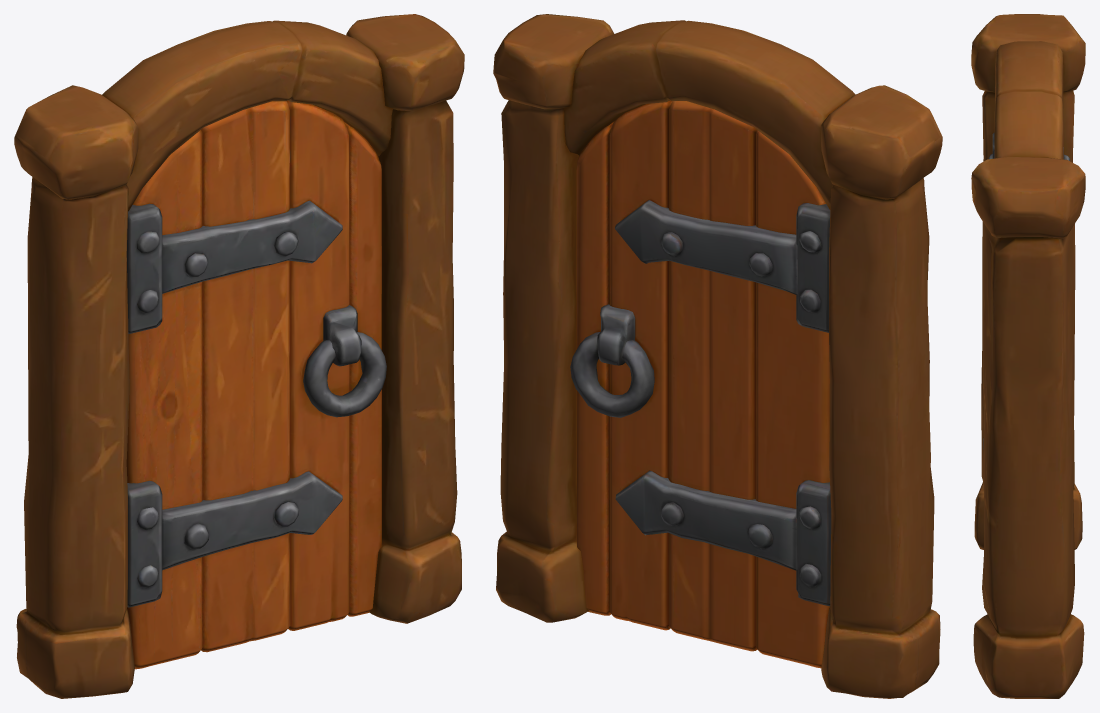
Rendered from porte_rustique.glb.
3 views of the same model, side by side, from view 1: azimuth 30°, elevation 25°; view 2: azimuth 150°, elevation 25°; view 3: azimuth 270°, elevation 25° (orthographic). The views are drawn at different scales.
Parts seen in each view (by area): view 1: geometry_0; view 2: geometry_0; view 3: geometry_0.
Part boxes in pixels (x1,y1,x2,y2): geometry_0: (14, 14, 464, 698); geometry_0: (493, 14, 942, 698); geometry_0: (971, 14, 1085, 698).
Bounding box in the file's own units: 0.6983 × 0.9521 × 0.1811.
1 material, 1 textured.
